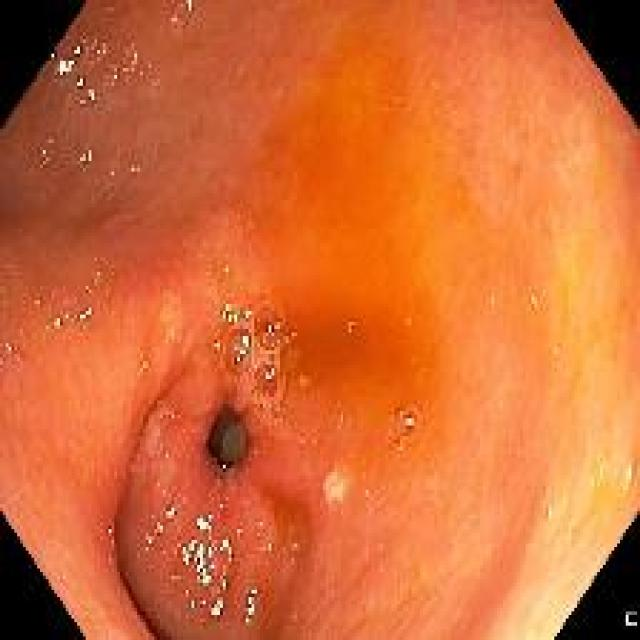bubbles: (254, 296, 287, 352), (223, 327, 252, 379), (251, 361, 283, 399), (83, 261, 112, 297), (394, 400, 419, 437), (288, 537, 304, 570), (167, 14, 185, 38), (622, 460, 638, 486), (390, 437, 408, 460), (267, 401, 283, 422), (541, 504, 555, 525), (261, 540, 275, 557), (172, 603, 183, 620), (197, 615, 208, 632)
contrast: (204, 404, 238, 471)
specularity: (177, 539, 218, 591), (243, 582, 261, 627), (232, 332, 253, 365), (143, 520, 165, 551), (183, 588, 207, 612), (217, 536, 236, 566), (216, 298, 239, 322), (195, 512, 215, 537), (56, 56, 77, 78), (210, 593, 227, 619), (69, 307, 94, 324), (76, 148, 94, 165), (260, 366, 278, 382), (263, 316, 280, 332), (47, 315, 64, 331), (85, 88, 100, 105), (402, 408, 414, 428), (164, 502, 176, 522), (217, 576, 230, 594), (177, 1, 195, 14), (211, 333, 222, 353), (72, 42, 84, 59), (48, 48, 60, 64), (78, 94, 89, 111), (243, 302, 252, 321), (529, 293, 540, 306), (222, 263, 232, 276), (347, 318, 355, 334), (75, 77, 85, 89), (625, 464, 631, 483), (547, 506, 552, 519), (397, 446, 404, 455), (130, 166, 137, 173), (42, 147, 47, 156)
